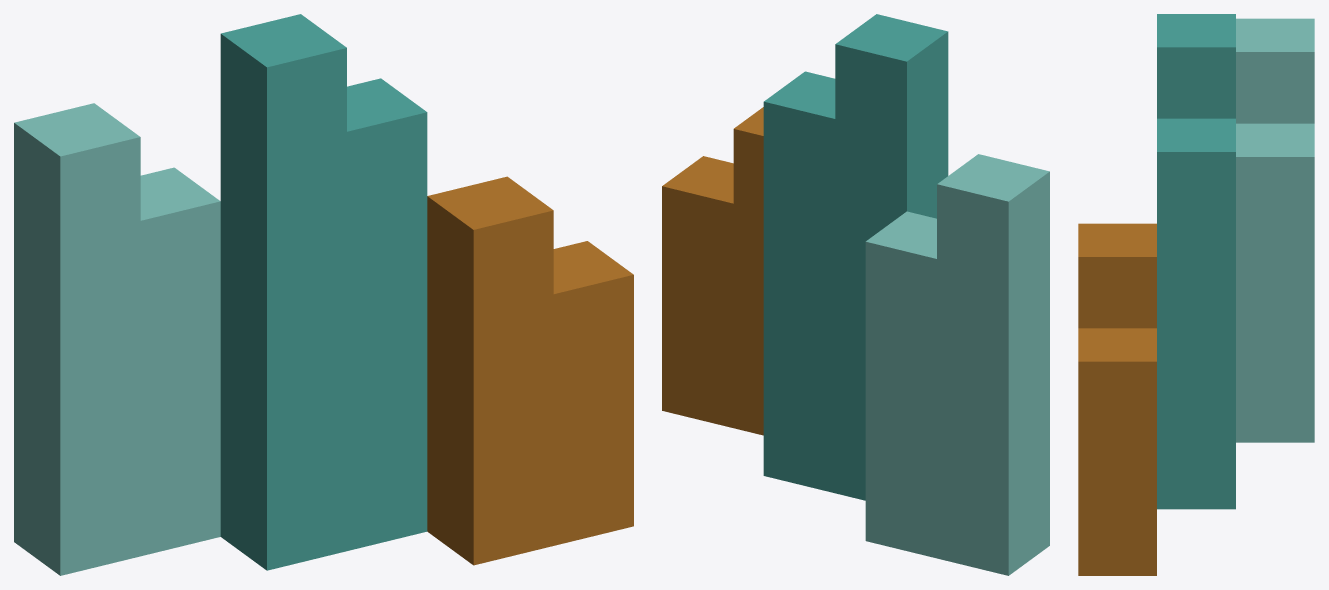
File: prop_mine_crystal_voxel.fbx
The picture shows the model from 3 angles, left to right: view 1: azimuth 30°, elevation 25°; view 2: azimuth 150°, elevation 25°; view 3: azimuth 270°, elevation 25°; orthographic projection. The views are drawn at different scales.
Visible parts, largest first — view 1: prop_mine_crystal_voxel; view 2: prop_mine_crystal_voxel; view 3: prop_mine_crystal_voxel.
Part boxes in pixels (x1=…): prop_mine_crystal_voxel: x1=14, y1=14, x2=633, y2=575; prop_mine_crystal_voxel: x1=662, y1=14, x2=1049, y2=575; prop_mine_crystal_voxel: x1=1078, y1=14, x2=1314, y2=575.
Size of the model in its own units: 0.75 by 0.75 by 0.375.
